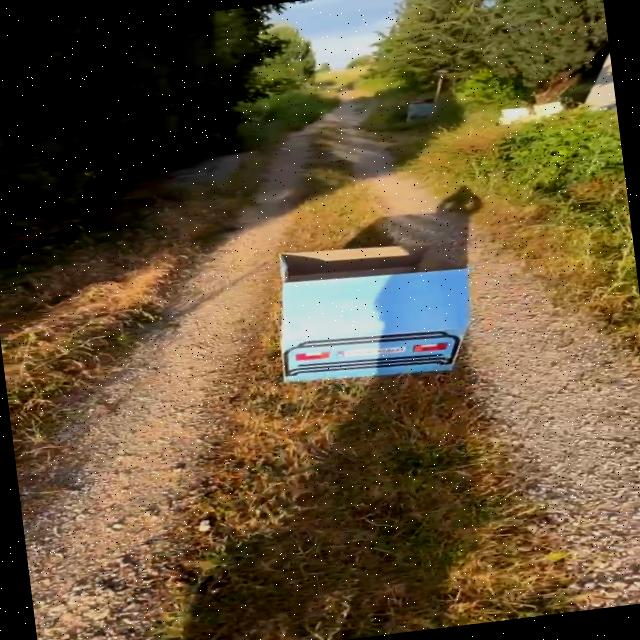blue_car: (219, 202, 537, 425)
